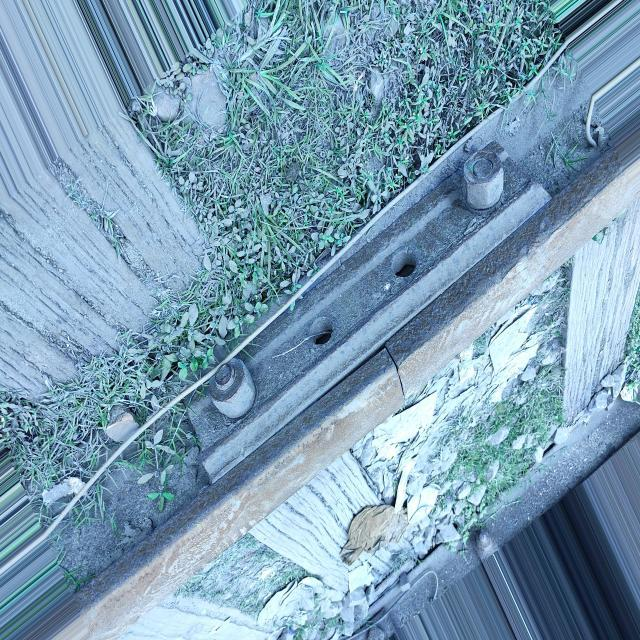Defective Joint: (187, 142, 555, 489)
